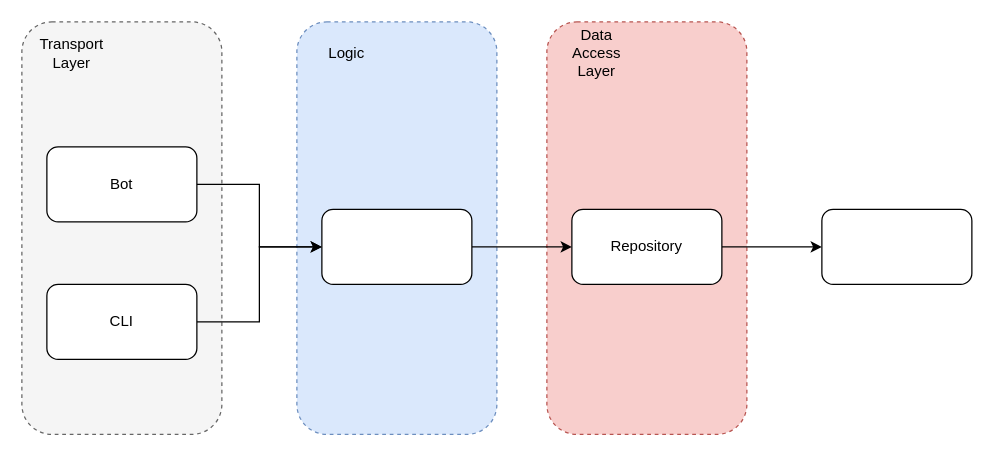
Image size: 994x456. Some labels were removed from this diagram. Here are the shapes that lost their labels. From the top down, the centre of each, then its label:
At (x=396, y=246): "Processor".
At (x=896, y=246): "Model".
